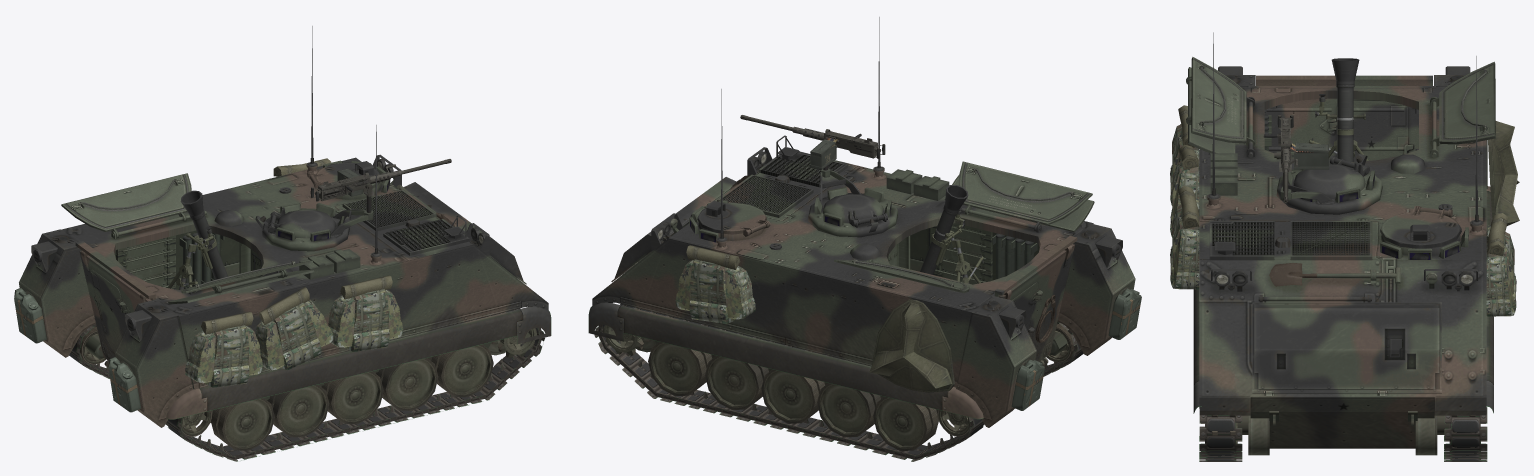
The model's file is m1064a3_mortar_carrier.glb.
The picture shows the model from 3 angles, left to right: view 1: azimuth 30°, elevation 25°; view 2: azimuth 150°, elevation 25°; view 3: azimuth 270°, elevation 25°; orthographic projection. The views are drawn at different scales.
Parts seen in each view (by area): view 1: hull, guard, track2, inside, gear3, gear2, gear, hatch3a, mount, fuel tanks, hatch4, wheel4 (+19 smaller); view 2: hull, guard, track, plate, hatch3b, inside, gear6, hatch4, mount, fuel tanks, hatch, wheel9 (+18 smaller); view 3: hull, hatch3a, hatch3b, hatch4, hatch5, mount, gear6, gear, hatch, plate, track, track2 (+12 smaller).
Part boxes in pixels (x1,y1,x2,y2): hull: [19, 154, 548, 427]; guard: [166, 306, 551, 419]; track2: [165, 308, 544, 461]; inside: [114, 230, 262, 289]; gear3: [185, 311, 262, 387]; gear2: [255, 287, 333, 370]; gear: [328, 275, 403, 351]; hatch3a: [61, 173, 191, 237]; mount: [255, 202, 373, 251]; fuel tanks: [14, 288, 140, 412]; hatch4: [79, 250, 151, 360]; wheel4: [444, 346, 490, 393]; hull: [592, 135, 1135, 427]; guard: [588, 302, 983, 419]; track: [594, 304, 984, 461]; plate: [869, 299, 954, 392]; hatch3b: [958, 161, 1092, 231]; inside: [887, 223, 1039, 284]; gear6: [675, 245, 755, 323]; hatch4: [999, 244, 1074, 361]; mount: [808, 168, 897, 237]; fuel tanks: [1011, 288, 1141, 410]; hatch: [697, 200, 770, 236]; wheel9: [820, 384, 867, 433]; hull: [1199, 66, 1487, 455]; hatch3a: [1430, 61, 1495, 146]; hatch3b: [1186, 57, 1254, 146]; hatch4: [1264, 98, 1418, 162]; hatch5: [1336, 101, 1407, 161]; mount: [1276, 153, 1382, 214]; gear6: [1486, 213, 1516, 316]; gear: [1170, 186, 1199, 289]; hatch: [1380, 206, 1461, 248]; plate: [1488, 121, 1519, 225]; track: [1444, 407, 1487, 461]; track2: [1199, 415, 1242, 461].
Size of the model in its own units: 5.32 by 3.76 by 3.1.
7 materials, 7 textured.
